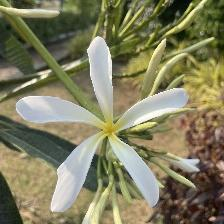champaka: (17, 36, 190, 216)
